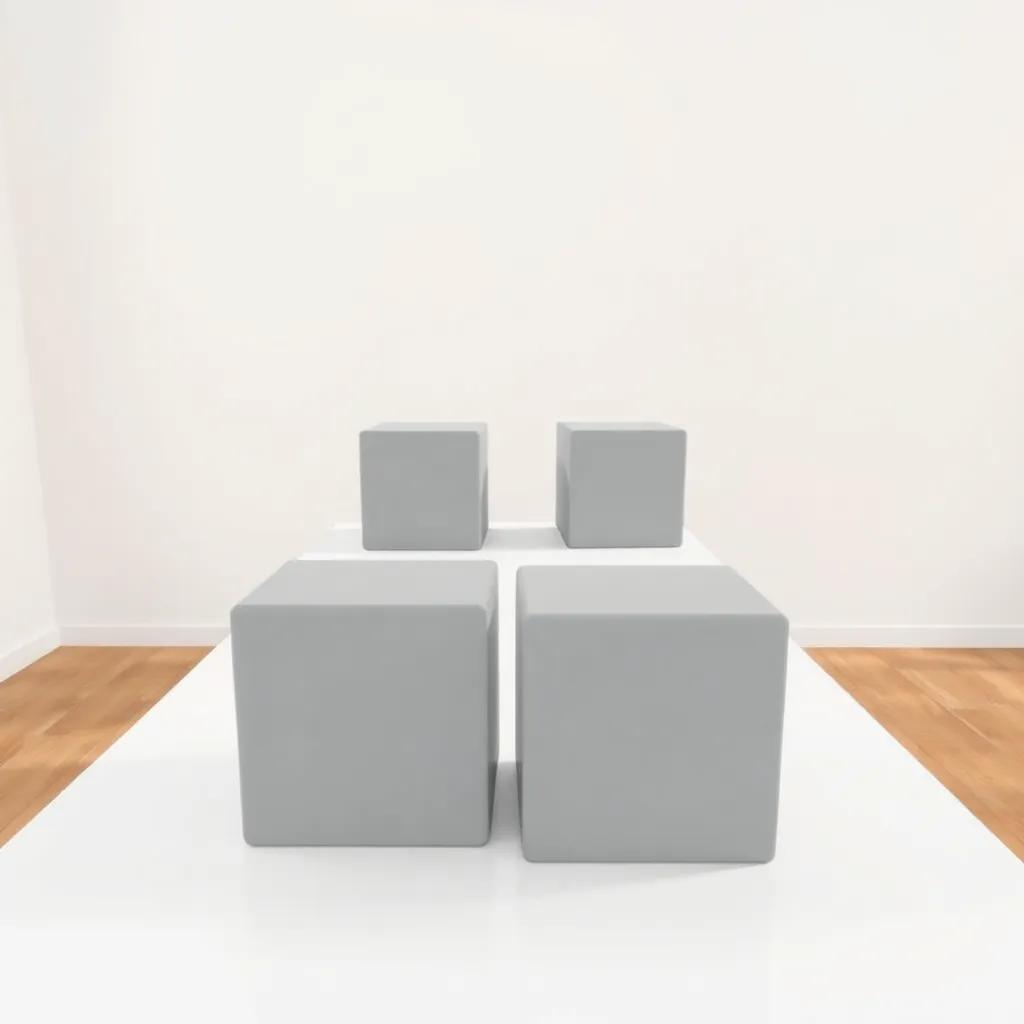cube: (514, 562, 789, 864), (229, 557, 498, 847), (358, 419, 488, 551), (554, 419, 687, 548)
